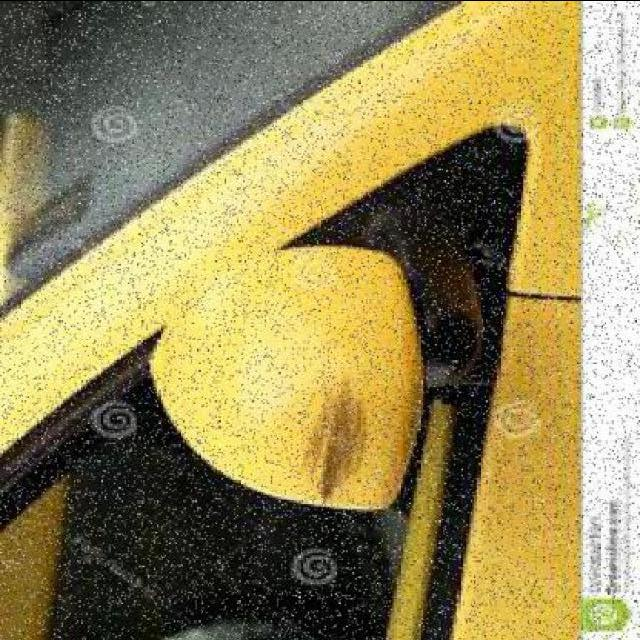Sidemirror-Damage: (137, 231, 431, 527)
